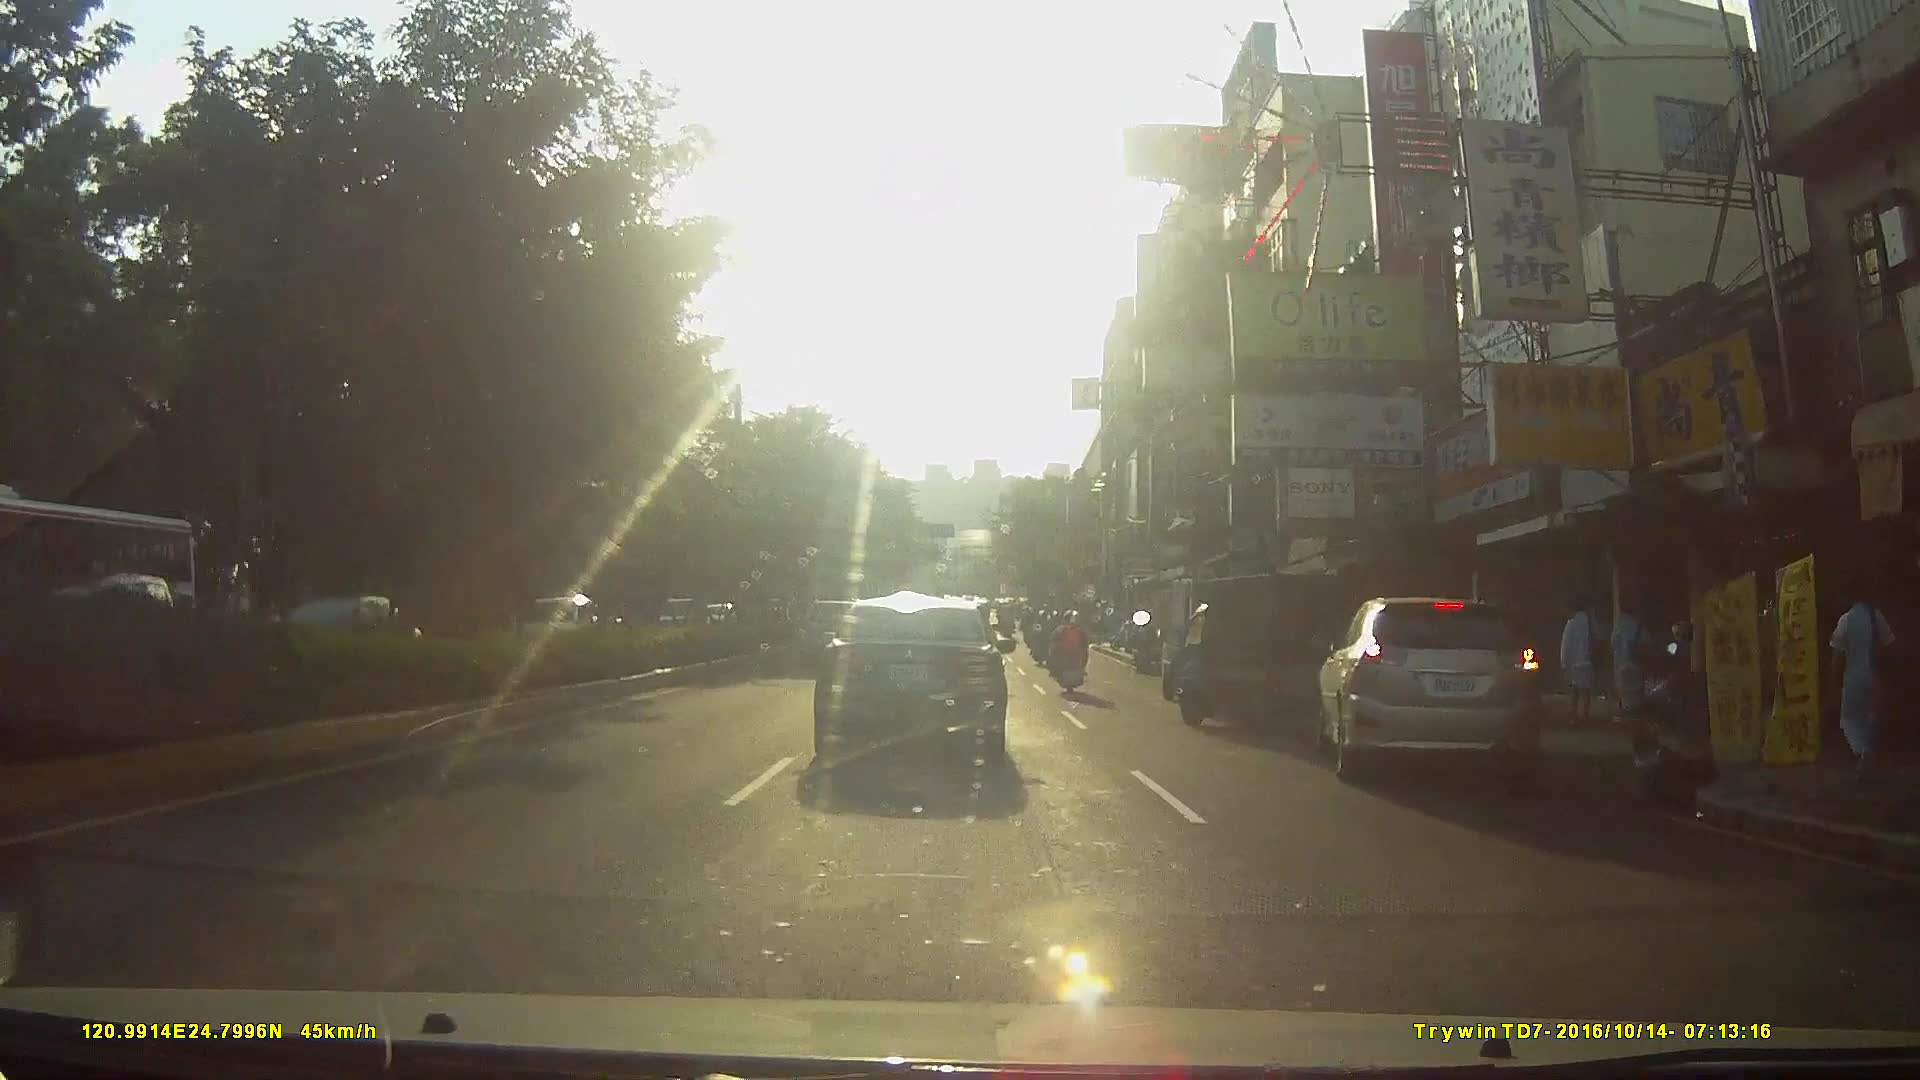pedestrian: (1831, 587, 1904, 780), (1602, 593, 1659, 737), (1556, 593, 1612, 738)
rider: (1046, 608, 1086, 699), (1025, 610, 1053, 666)
vehicle: (1317, 584, 1577, 807), (808, 592, 1026, 778), (1, 496, 201, 675), (1148, 568, 1313, 749)
